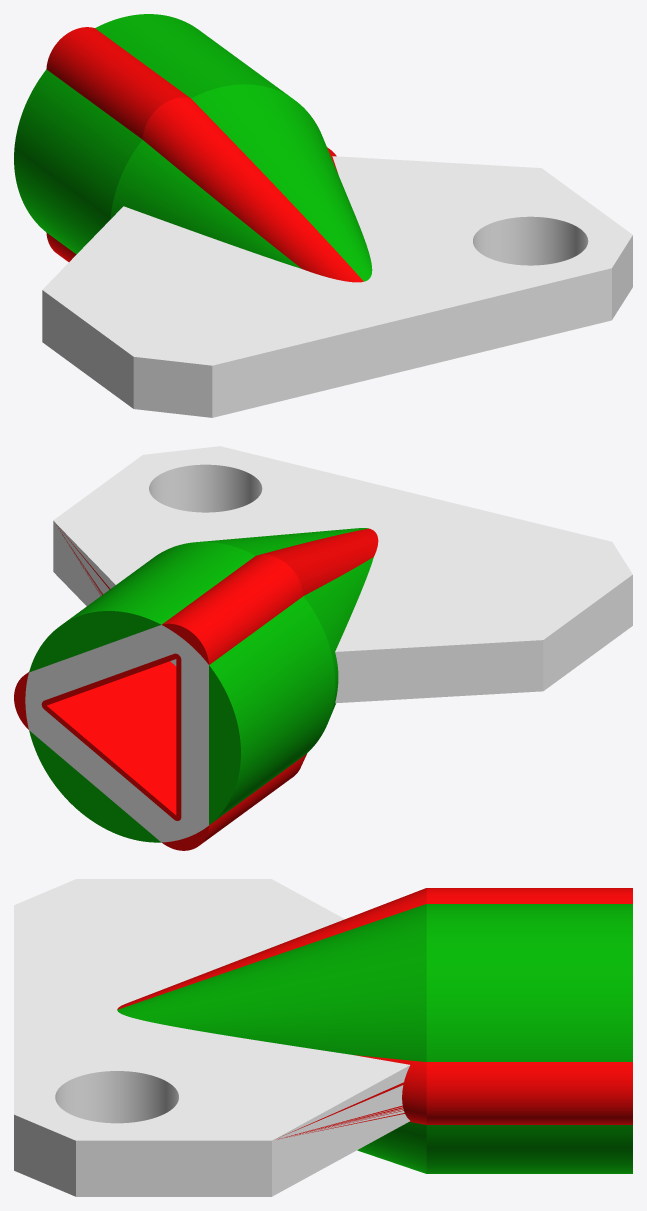
The model's file is changes.gltf.
3 views of the same model, one above another, from view 1: azimuth 30°, elevation 25°; view 2: azimuth 150°, elevation 25°; view 3: azimuth 270°, elevation 25° (orthographic). The views are drawn at different scales.
Parts seen in each view (by area): view 1: Node1; view 2: Node1; view 3: Node1.
Part boxes in pixels (left/top/right/bottom): Node1: left=14, top=14, right=632, bottom=417; Node1: left=14, top=446, right=632, bottom=850; Node1: left=14, top=879, right=632, bottom=1196.
Size of the model in its own units: 30 by 13.19 by 30.
